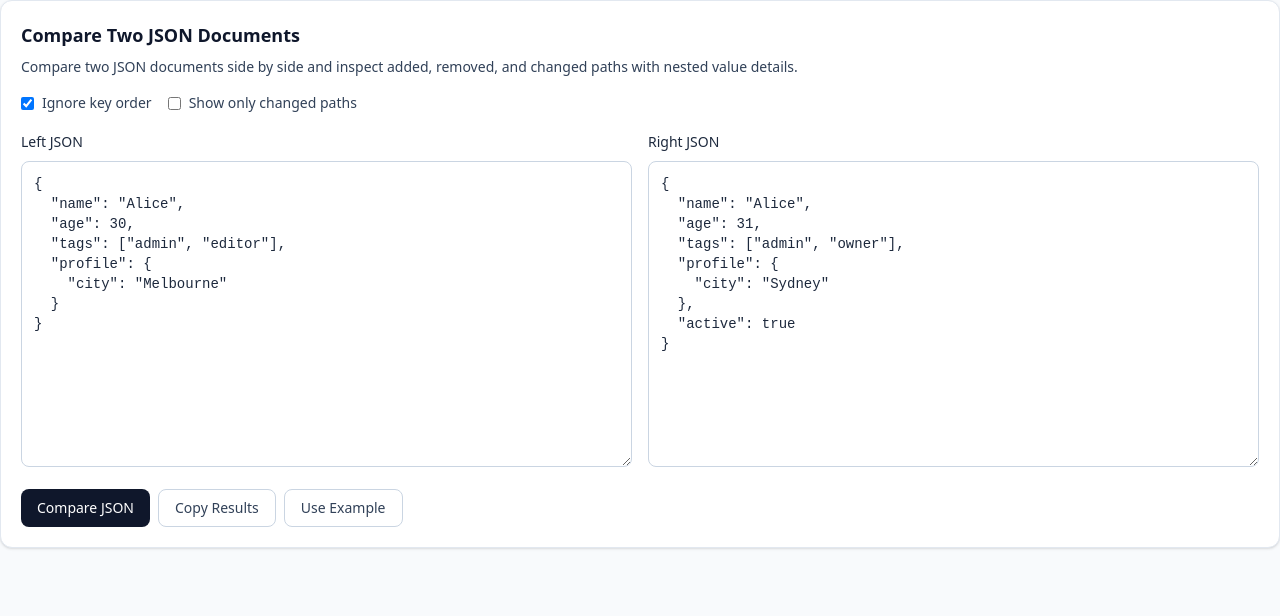
Test: JsonDiffCheckerTool › shows a clear invalid-json error state
Clear the text box labelled "Right JSON". click: {"x": 954, "y": 314}
box: [648,161,1259,467]
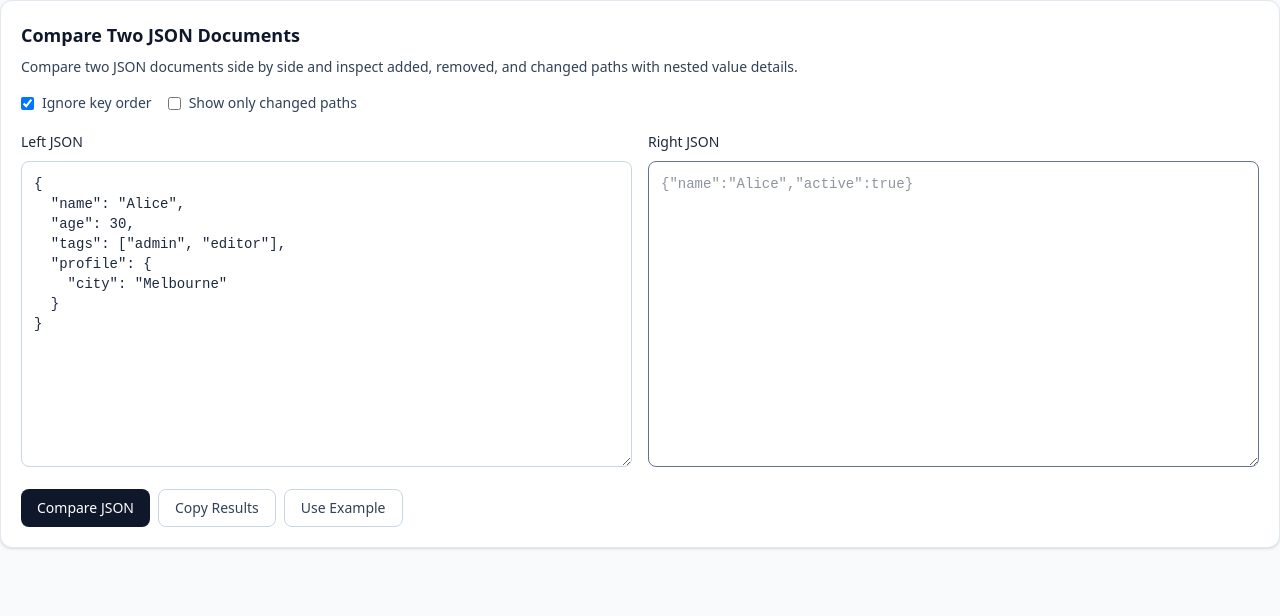
Type keys "{invalid"
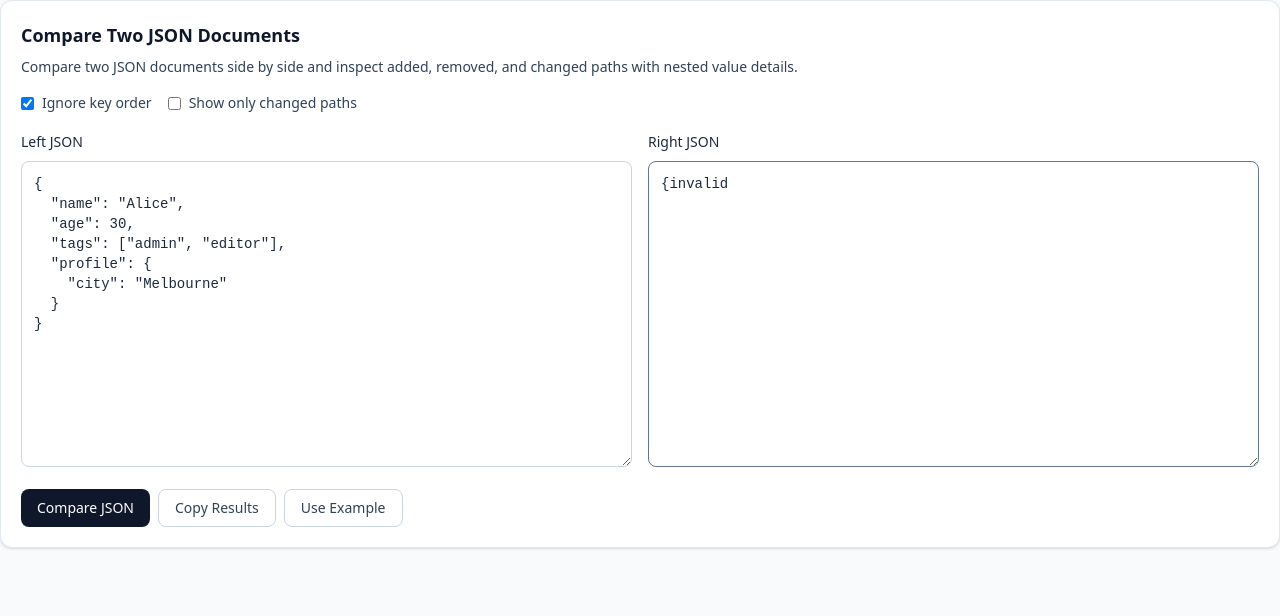
Click the button "Compare JSON". click: {"x": 86, "y": 508}
box: [21,489,150,527]
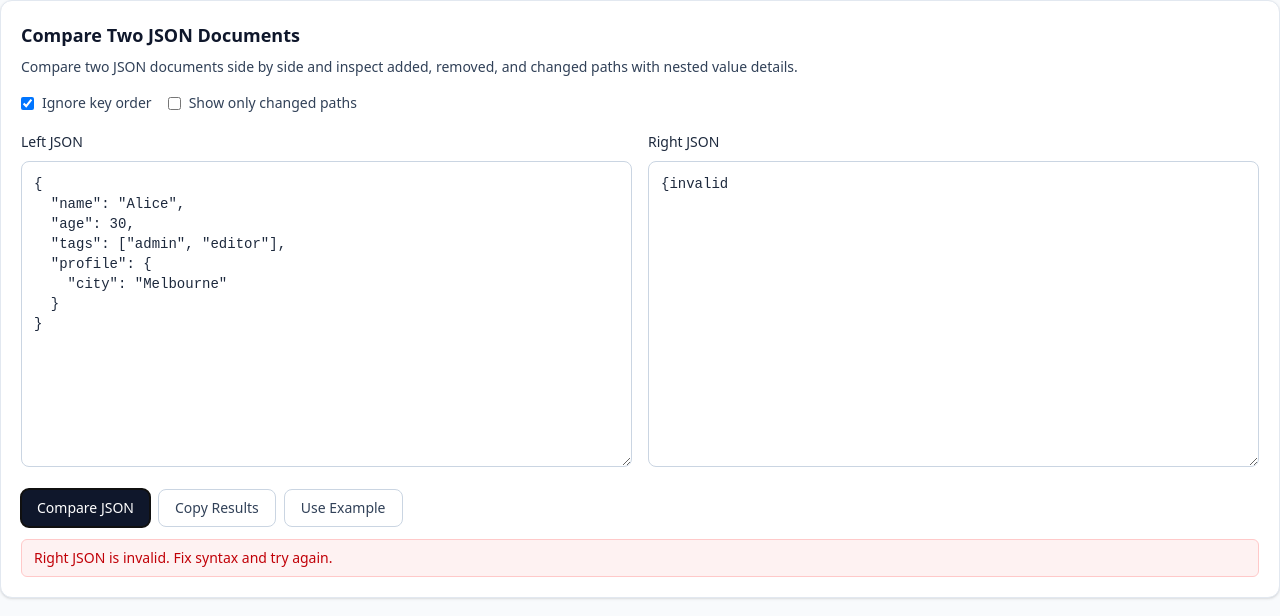
Now the text "Right JSON is invalid. Fix syntax and try again." is shown, box [21,539,1259,577]
